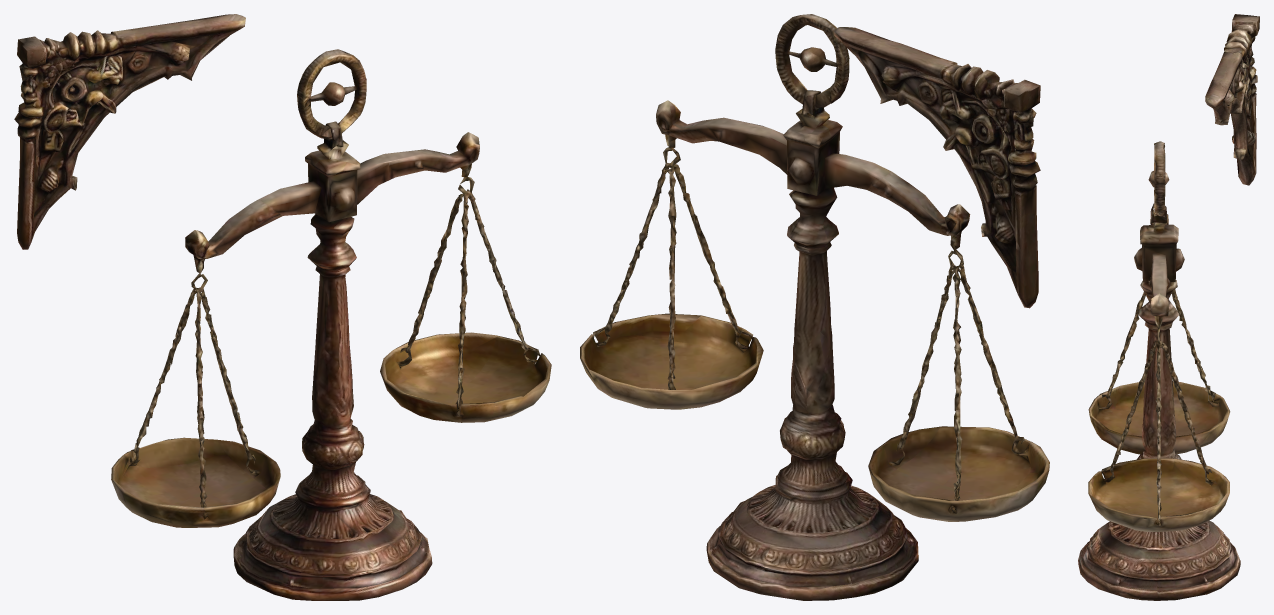
The model's file is scales.glb.
3 views of the same model, side by side, from view 1: azimuth 30°, elevation 25°; view 2: azimuth 150°, elevation 25°; view 3: azimuth 270°, elevation 25° (orthographic). The views are drawn at different scales.
Visible parts, largest first — view 1: tripo_node_c6ae8cdb-5de5-4840-9dd6-b4d6cc3044bc; view 2: tripo_node_c6ae8cdb-5de5-4840-9dd6-b4d6cc3044bc; view 3: tripo_node_c6ae8cdb-5de5-4840-9dd6-b4d6cc3044bc.
Part boxes in pixels (x1,y1,x2,y2): tripo_node_c6ae8cdb-5de5-4840-9dd6-b4d6cc3044bc: (14, 14, 551, 600); tripo_node_c6ae8cdb-5de5-4840-9dd6-b4d6cc3044bc: (580, 14, 1049, 600); tripo_node_c6ae8cdb-5de5-4840-9dd6-b4d6cc3044bc: (1078, 14, 1259, 600).
Size of the model in its own units: 0.8472 by 0.9286 by 0.3392.
Materials: 1 (1 with a texture image).
